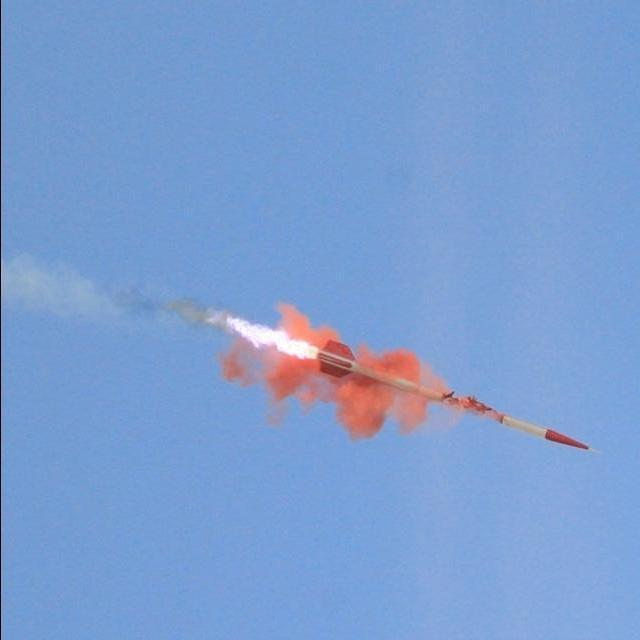missile: (313, 330, 592, 455)
